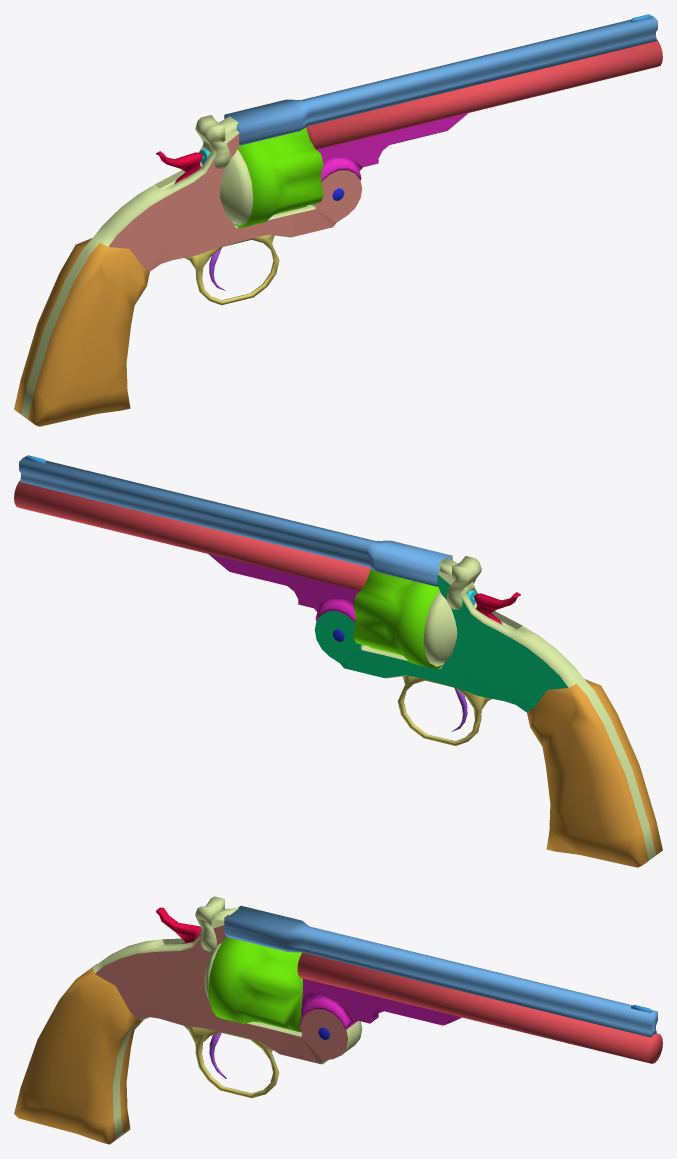
The model's file is schofield_test.gltf.
3 views of the same model, one above another, from view 1: azimuth 30°, elevation 25°; view 2: azimuth 150°, elevation 25°; view 3: azimuth 330°, elevation 25° (orthographic).
Visible parts, largest first — view 1: Plane.003; view 2: Plane.003; view 3: Plane.003.
Boxes of the visible parts, box(x1,y1,x2,y2) form: Plane.003: box(14, 14, 662, 426); Plane.003: box(14, 455, 662, 867); Plane.003: box(14, 896, 662, 1144).
Bounding box in the file's own units: 4.11 × 1.6 × 0.5213.
